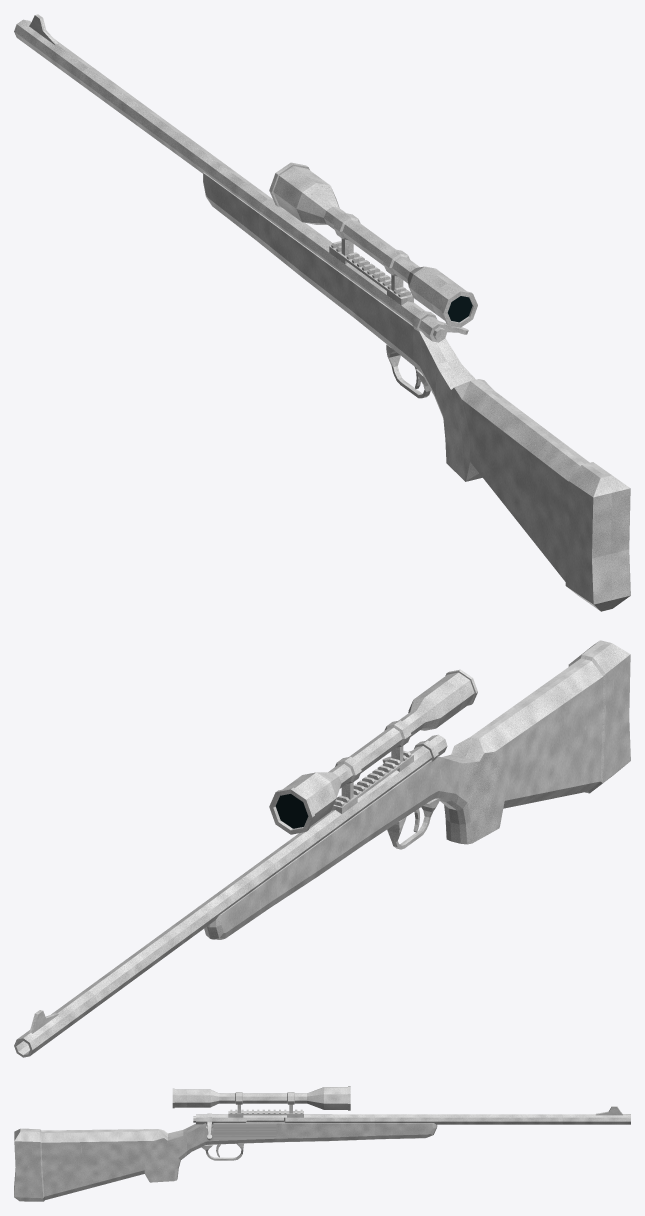
Rendered from sniper.obj.
3 renders of one model, top to bottom at view 1: azimuth 30°, elevation 25°; view 2: azimuth 150°, elevation 25°; view 3: azimuth 270°, elevation 25°, orthographic. The views are drawn at different scales.
Visible parts, largest first — view 1: SniperRifle_1_Cube.113; view 2: SniperRifle_1_Cube.113; view 3: SniperRifle_1_Cube.113.
Part boxes in pixels (x1,y1,x2,y2): SniperRifle_1_Cube.113: (14, 14, 630, 611); SniperRifle_1_Cube.113: (14, 640, 630, 1057); SniperRifle_1_Cube.113: (14, 1086, 630, 1201).
Size of the model in its own units: 0.0827 by 0.2671 by 1.31.
Materials: 5 (4 with a texture image).
